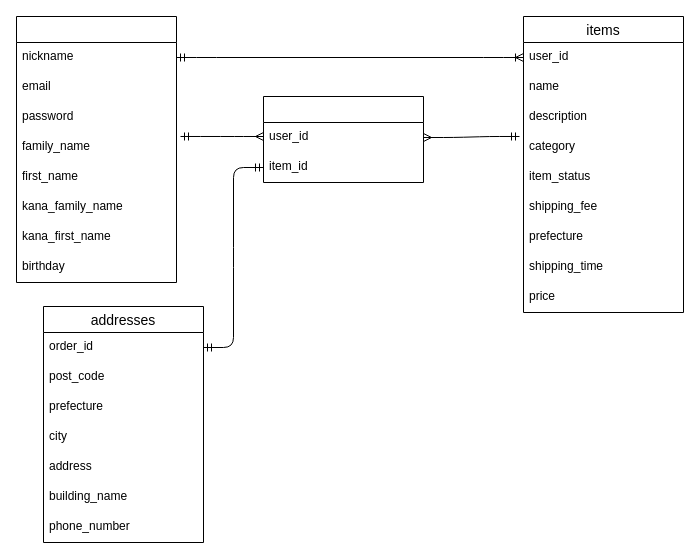
Some shapes in this 700 by 559 pixel diagram are drawn without their labels. The shapes that lost their labels are listed below. From the top down, each one's box as (x1, y1, x2, y2) in pixels, then its label:
(16, 16, 176, 282): users
(262, 96, 424, 182): orders
